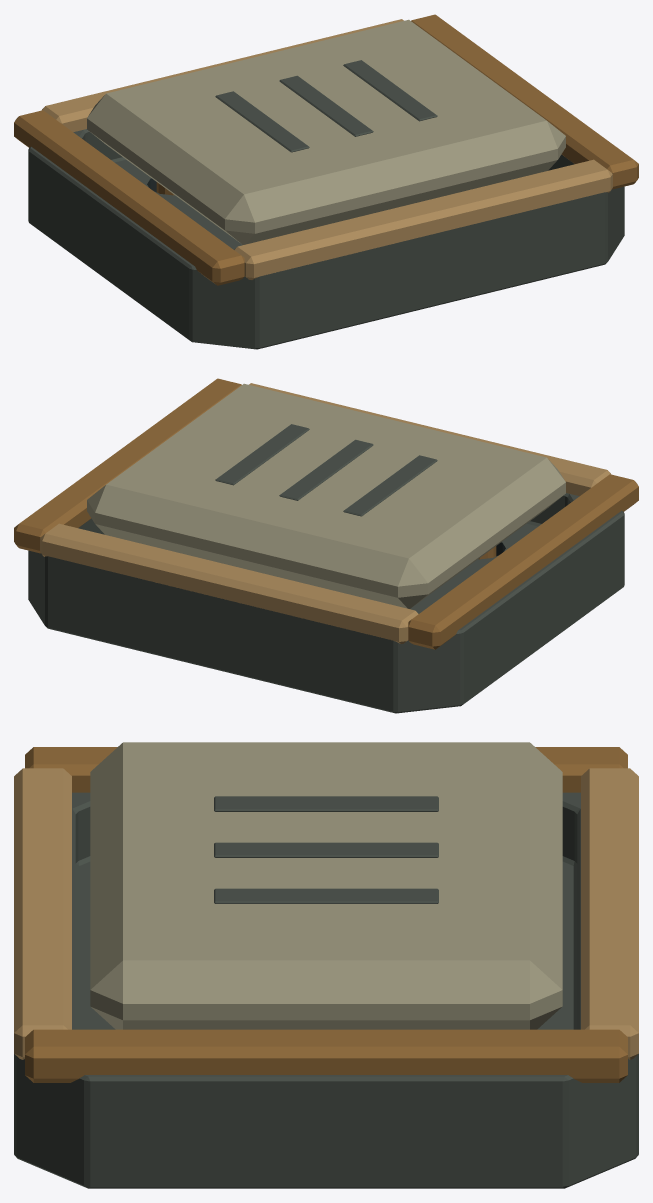
Rendered from PRESSURE_PLATE.lo.glb.
The picture shows the model from 3 angles, top to bottom: view 1: azimuth 30°, elevation 25°; view 2: azimuth 150°, elevation 25°; view 3: azimuth 270°, elevation 25°; orthographic projection. The views are drawn at different scales.
Parts seen in each view (by area): view 1: Body_Mesh, PlateTravel_Mesh; view 2: Body_Mesh, PlateTravel_Mesh; view 3: Body_Mesh, PlateTravel_Mesh.
Boxes of the visible parts, <box> form: Body_Mesh: <box>14,14,638,349</box>; PlateTravel_Mesh: <box>87,19,565,244</box>; Body_Mesh: <box>14,378,638,713</box>; PlateTravel_Mesh: <box>87,383,565,608</box>; Body_Mesh: <box>14,747,638,1188</box>; PlateTravel_Mesh: <box>90,742,562,1029</box>.
Bounding box in the file's own units: 1.02 × 0.2805 × 0.86.
